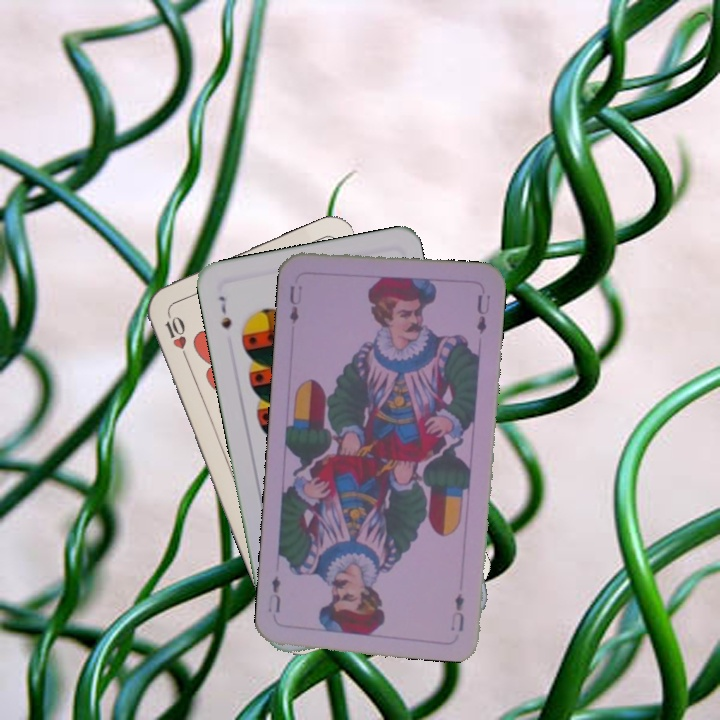EU: (285, 281, 305, 327), (448, 589, 467, 635)
H10: (161, 307, 191, 364)
S7: (214, 292, 234, 332)
